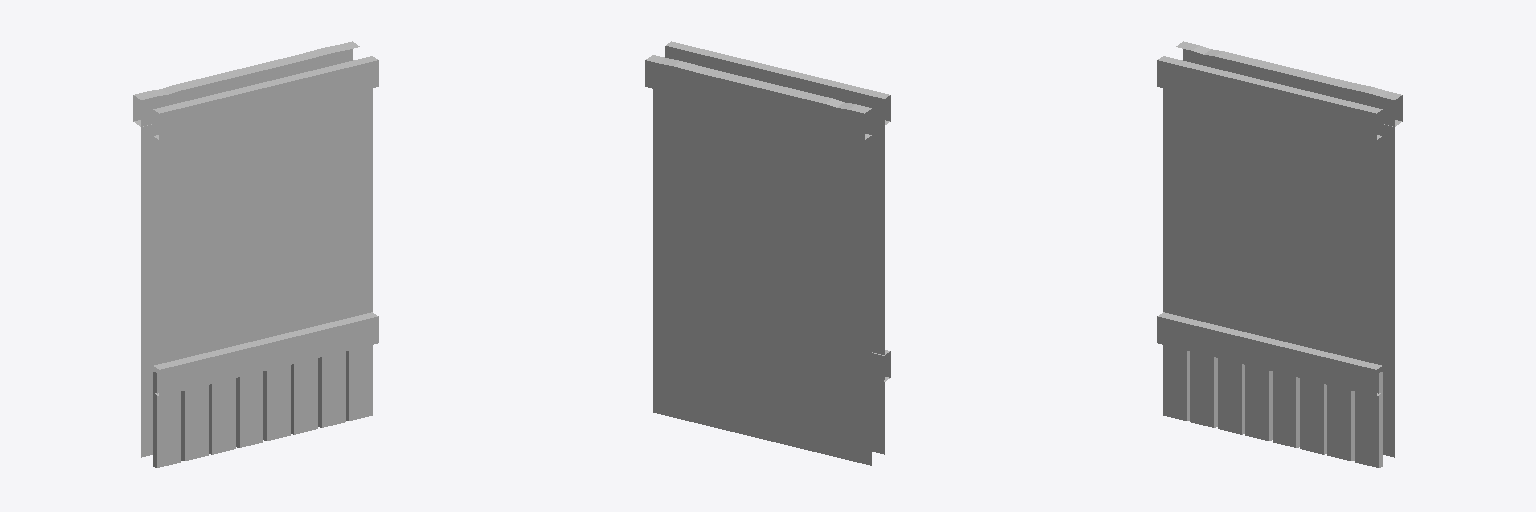
Rendered from Wall_WoodBrick_Straight.obj.
3 views of the same model, side by side, from view 1: azimuth 30°, elevation 25°; view 2: azimuth 150°, elevation 25°; view 3: azimuth 330°, elevation 25° (orthographic).
Parts seen in each view (by area): view 1: Wall_WoodBrick_Straight; view 2: Wall_WoodBrick_Straight; view 3: Wall_WoodBrick_Straight.
Part boxes in pixels (x1,y1,x2,y2): Wall_WoodBrick_Straight: (133, 41, 378, 467); Wall_WoodBrick_Straight: (645, 41, 890, 465); Wall_WoodBrick_Straight: (1157, 41, 1402, 467).
Bounding box in the file's own units: 2 × 3.12 × 0.4065.